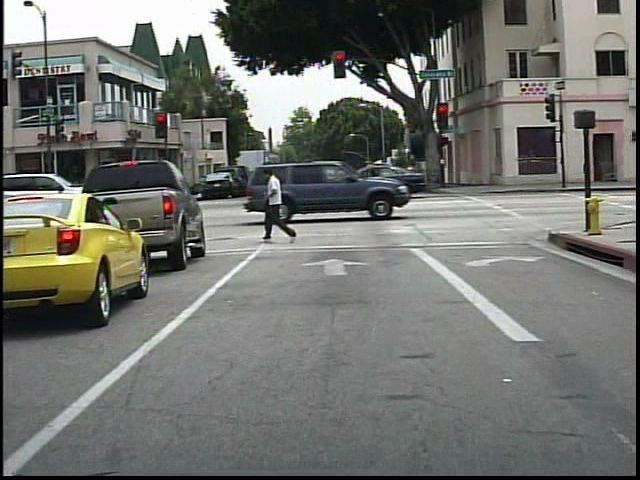person: (259, 165, 299, 246), (265, 166, 292, 208)
